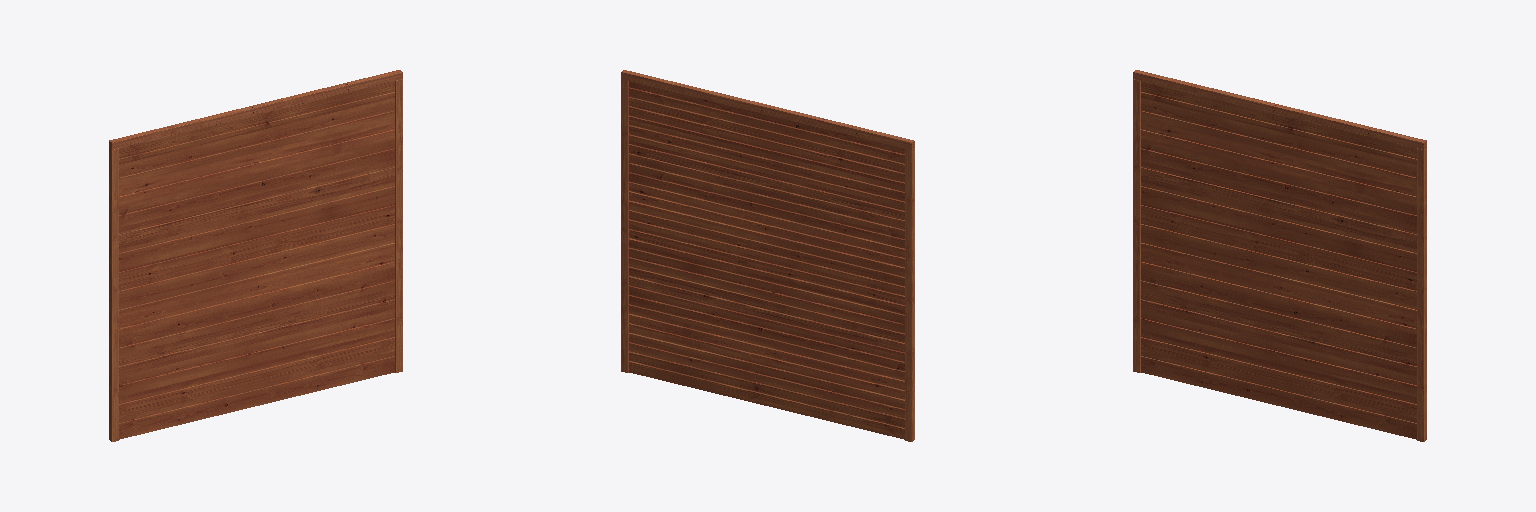
3 renders of one model, left to right at view 1: azimuth 30°, elevation 25°; view 2: azimuth 150°, elevation 25°; view 3: azimuth 330°, elevation 25°, orthographic.
Parts seen in each view (by area): view 1: wall_planks, trim_top, trim_left, trim_right; view 2: wall_planks, trim_top, trim_left, trim_right; view 3: wall_planks, trim_top, trim_right, trim_left.
Boxes of the visible parts, box(x1,y1,x2,y2) form: wall_planks: box(119, 81, 394, 439); trim_top: box(109, 70, 402, 149); trim_left: box(109, 148, 118, 441); trim_right: box(395, 79, 402, 372); wall_planks: box(629, 81, 904, 439); trim_top: box(621, 70, 914, 149); trim_left: box(905, 148, 914, 441); trim_right: box(621, 79, 628, 372); wall_planks: box(1141, 81, 1416, 439); trim_top: box(1133, 70, 1426, 149); trim_right: box(1417, 148, 1426, 441); trim_left: box(1133, 79, 1140, 372).
Bounding box in the file's own units: 96 × 94.5 × 1.82.
Materials: 2 (2 with a texture image).